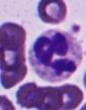N: (29, 28, 84, 82)
